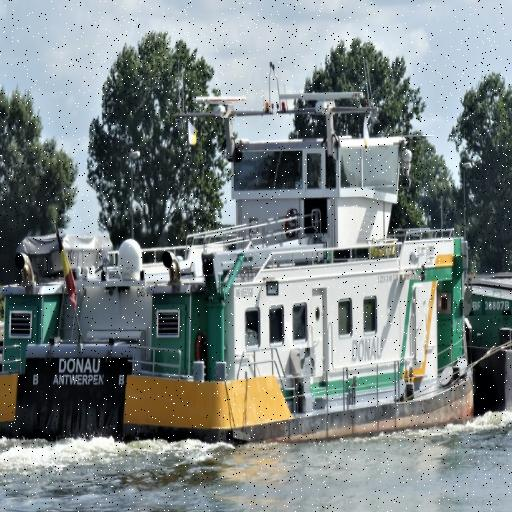tugboat: (1, 86, 482, 470)
